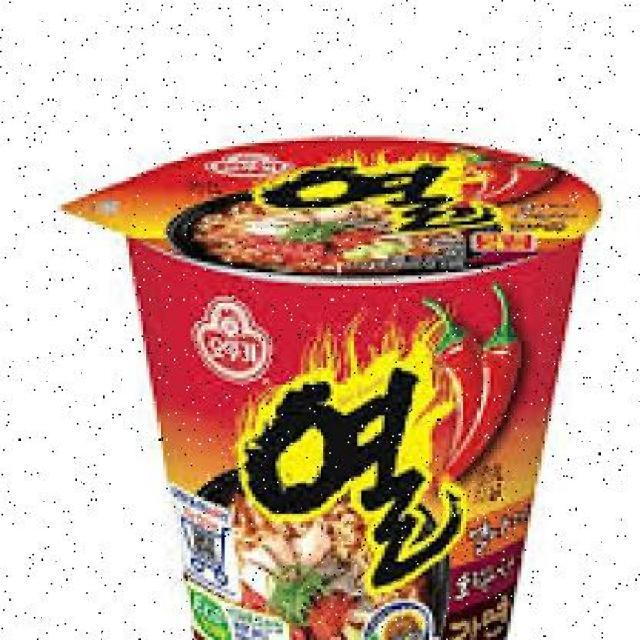Miscellaneous: (115, 121, 609, 640)
